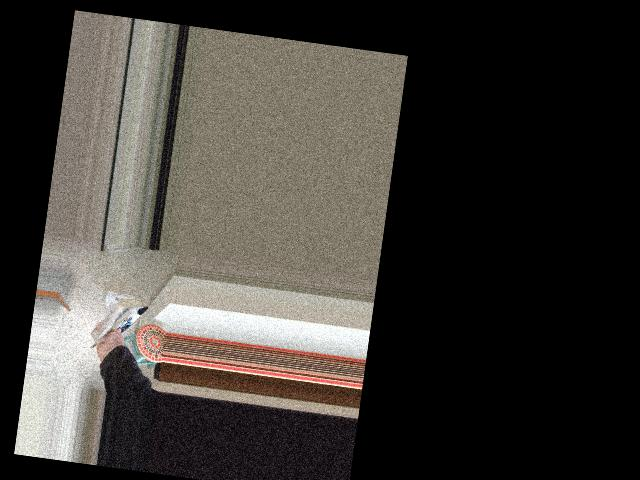cheese: (81, 283, 158, 366)
